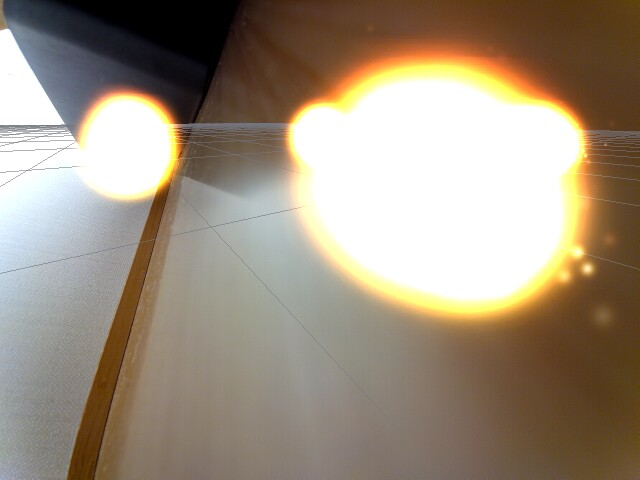firebig: (337, 51, 538, 324)
